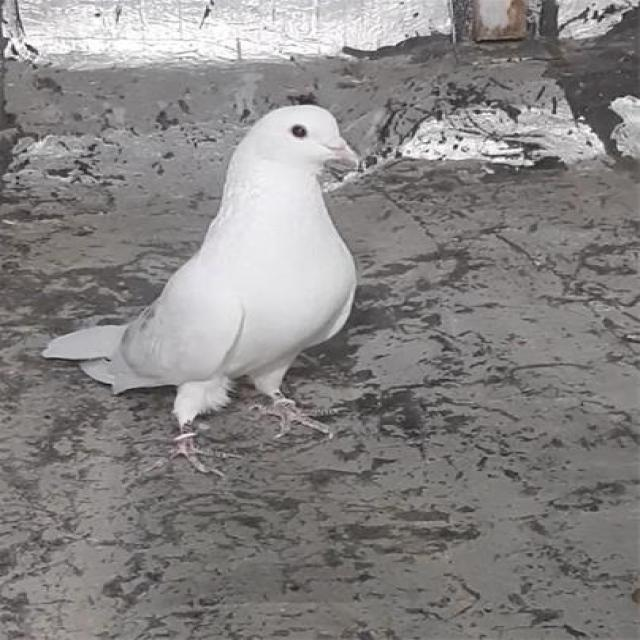bird: (31, 93, 388, 480)
